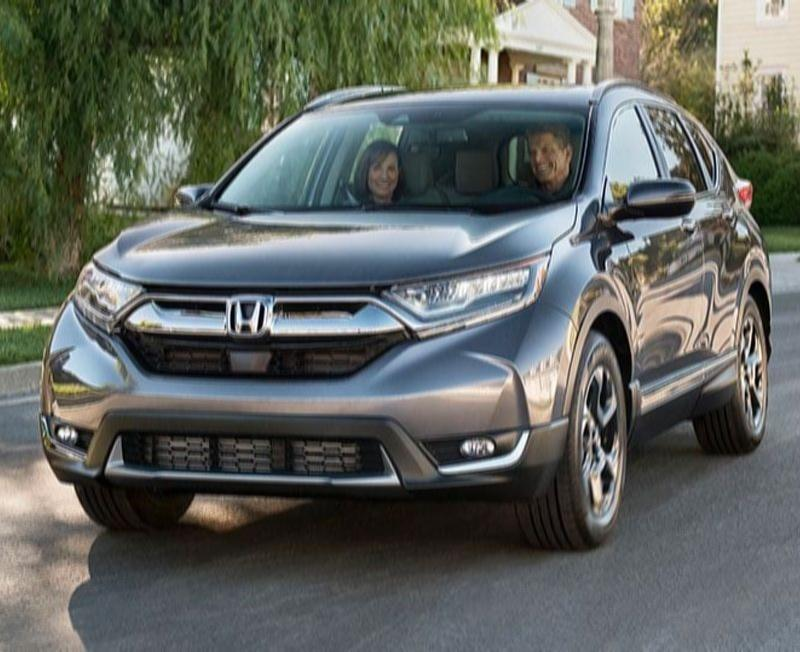Car hood: (77, 198, 582, 296)
Fender - -F-L-: (533, 199, 638, 431)
Front bumper: (36, 299, 580, 503)
Headlight - -L-: (366, 249, 553, 343)
Headlight - -R-: (67, 258, 150, 340)
Passenger-s door - -F-L-: (589, 75, 701, 439)
Passenger-s door - -R-L-: (639, 92, 749, 434)
Side bumper - -L-: (627, 356, 754, 485)
Side mirror - -L-: (597, 174, 688, 227)
Side mirror - -R-: (170, 179, 219, 213)
